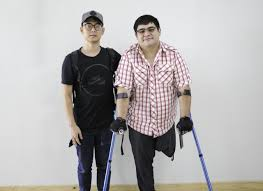person: (53, 5, 121, 97), (117, 10, 186, 98)
